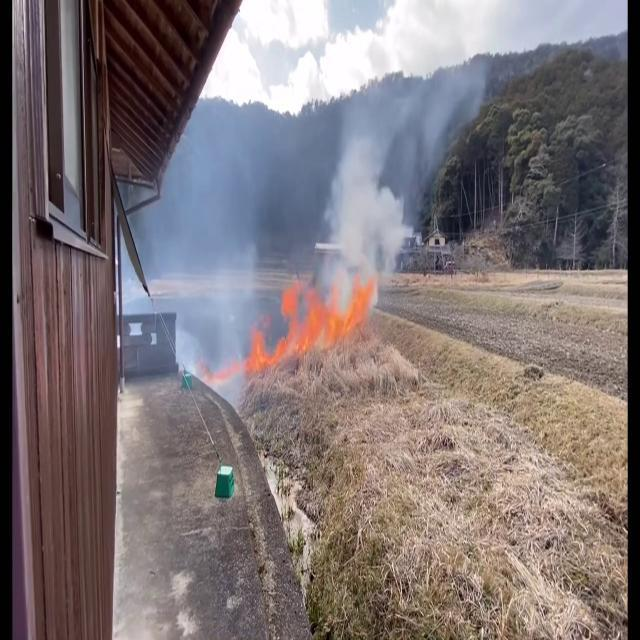Fire: (278, 267, 376, 365), (244, 319, 282, 378)
Smoke: (136, 104, 292, 388), (315, 26, 463, 300)
